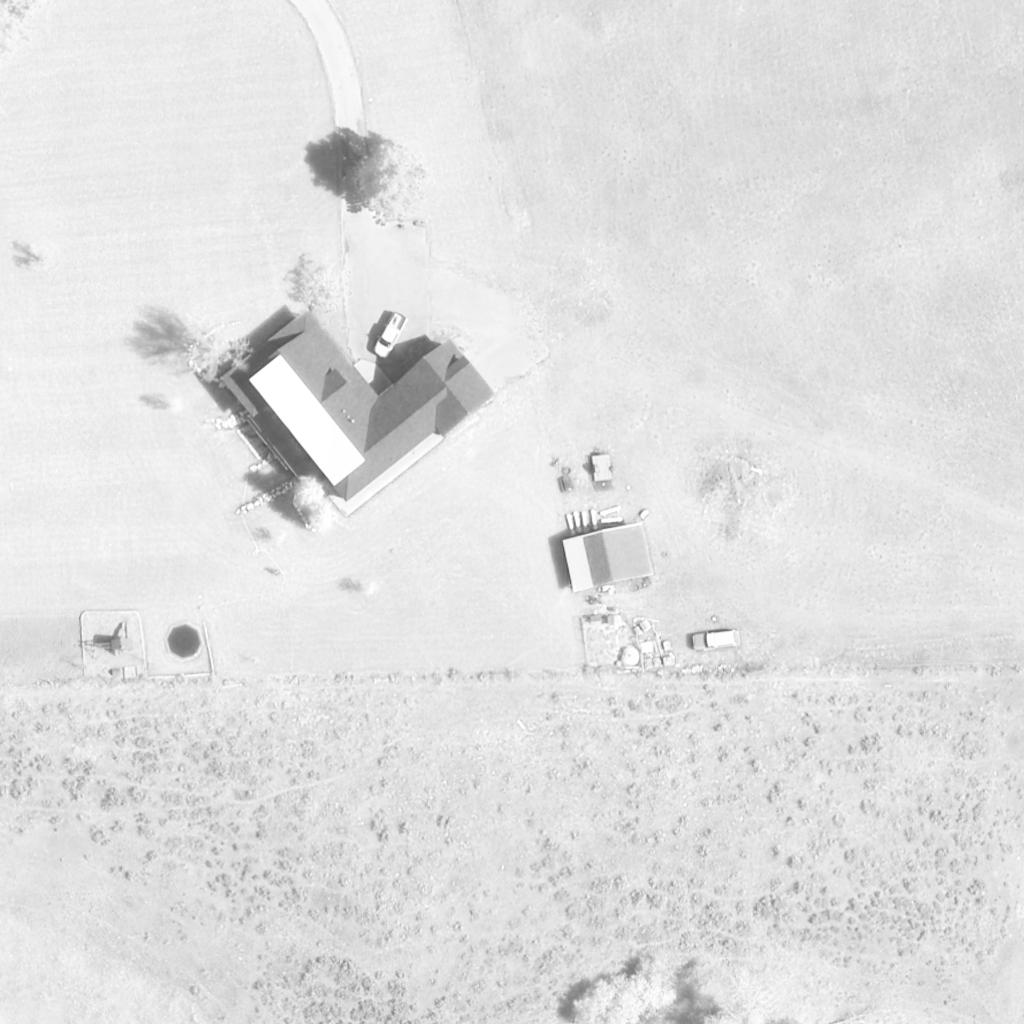vehicle: (373, 313, 407, 357), (691, 631, 741, 651)
